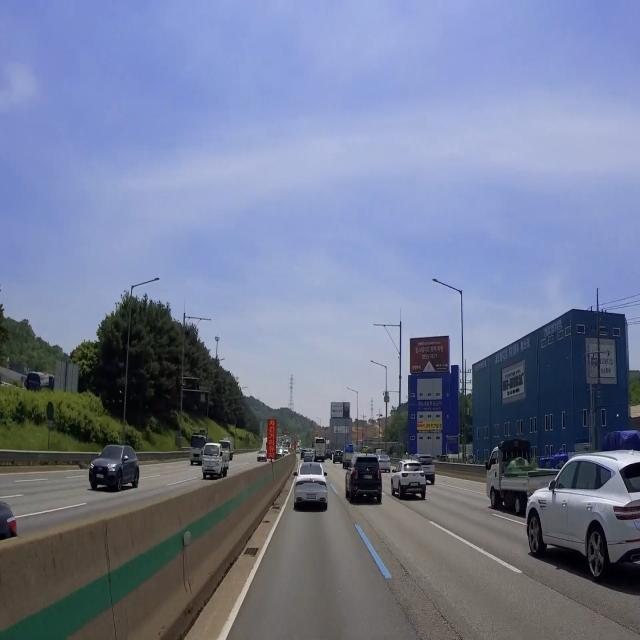car: (361, 469, 376, 488), (303, 489, 320, 505), (94, 468, 106, 486), (407, 479, 420, 494)
